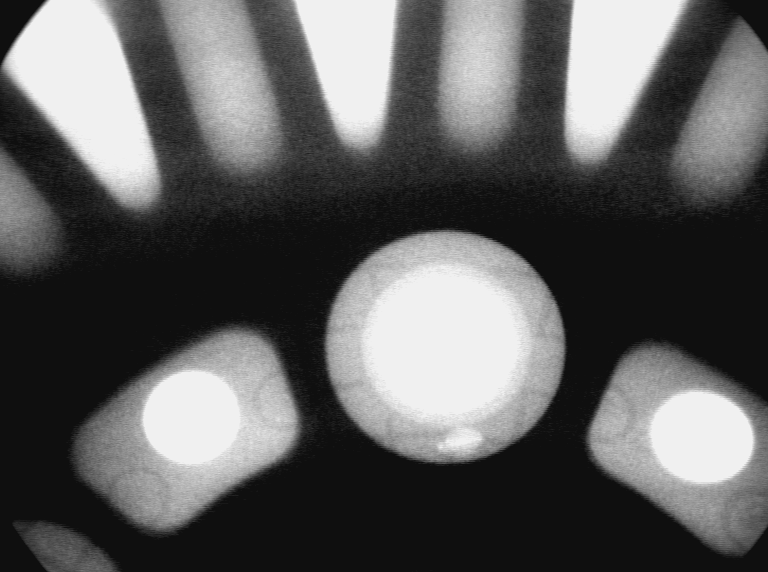defect: (436, 425, 486, 463)
